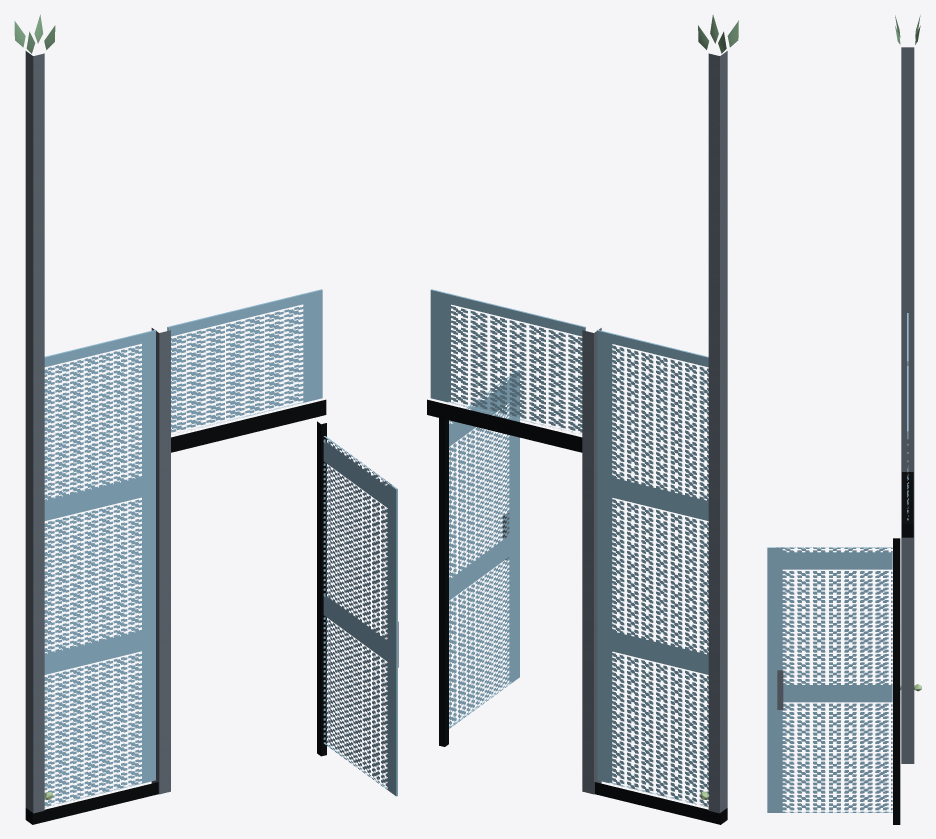
File: tt_court_partition_door.glb
3 renders of one model, left to right at view 1: azimuth 30°, elevation 25°; view 2: azimuth 150°, elevation 25°; view 3: azimuth 270°, elevation 25°, orthographic. The views are drawn at different scales.
Visible parts, largest first — view 1: Sidelight_Scissor, Post_Steel, Door_Leaf_Scissor, Transom_Scissor, Door_Leaf_Frame, Door_Header, Floor_Channel; view 2: Sidelight_Scissor, Post_Steel, Door_Leaf_Scissor, Transom_Scissor, Door_Leaf_Frame, Door_Header, Floor_Channel, Leaf_Capital; view 3: Door_Leaf_Scissor, Post_Steel, Door_Leaf_Frame, Door_Header.
Part boxes in pixels (x1=…): Sidelight_Scissor: x1=44, y1=330, x2=156, y2=807; Post_Steel: x1=25, y1=51, x2=170, y2=813; Door_Leaf_Scissor: x1=323, y1=436, x2=397, y2=796; Transom_Scissor: x1=167, y1=289, x2=322, y2=434; Door_Leaf_Frame: x1=317, y1=421, x2=326, y2=756; Door_Header: x1=171, y1=399, x2=326, y2=452; Floor_Channel: x1=25, y1=782, x2=158, y2=824; Sidelight_Scissor: x1=597, y1=330, x2=708, y2=807; Post_Steel: x1=582, y1=51, x2=727, y2=813; Door_Leaf_Scissor: x1=449, y1=370, x2=519, y2=728; Transom_Scissor: x1=430, y1=289, x2=585, y2=433; Door_Leaf_Frame: x1=439, y1=418, x2=448, y2=746; Door_Header: x1=427, y1=399, x2=582, y2=452; Floor_Channel: x1=594, y1=782, x2=727, y2=824; Leaf_Capital: x1=698, y1=15, x2=738, y2=53; Door_Leaf_Scissor: x1=767, y1=547, x2=892, y2=812; Post_Steel: x1=901, y1=47, x2=914, y2=763; Door_Leaf_Frame: x1=893, y1=538, x2=900, y2=824; Door_Header: x1=902, y1=472, x2=913, y2=537.
Size of what is drawn, in the model's own units: 2.06 by 5.19 by 1.06.
5 materials, 3 textured.
